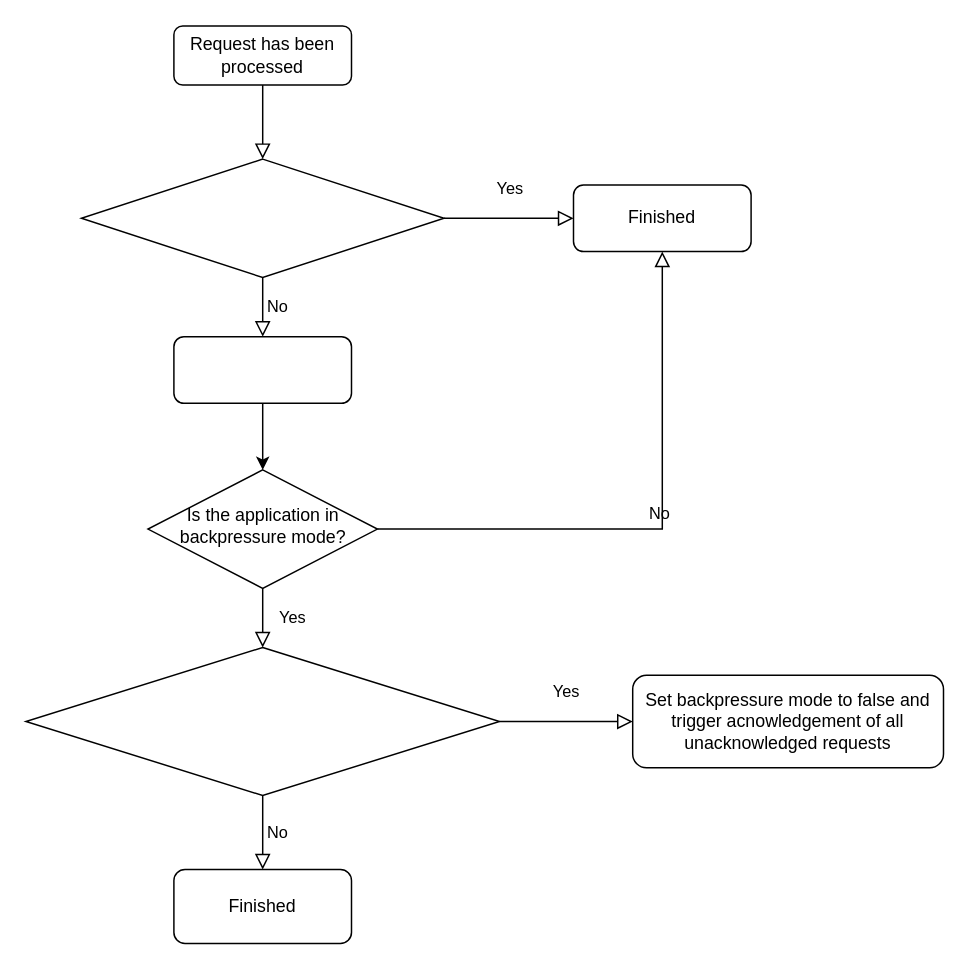
Image size: 969x969. Some labels were removed from this diagram. Each missing label, with the box of its shape:
Decrement unprocessed request count: (172, 335, 352, 403)
Did the request already pass through this workflow?: (80, 158, 444, 278)
Is the unprocessed request count lower than the lower backpressure threshold?: (24, 646, 500, 796)
